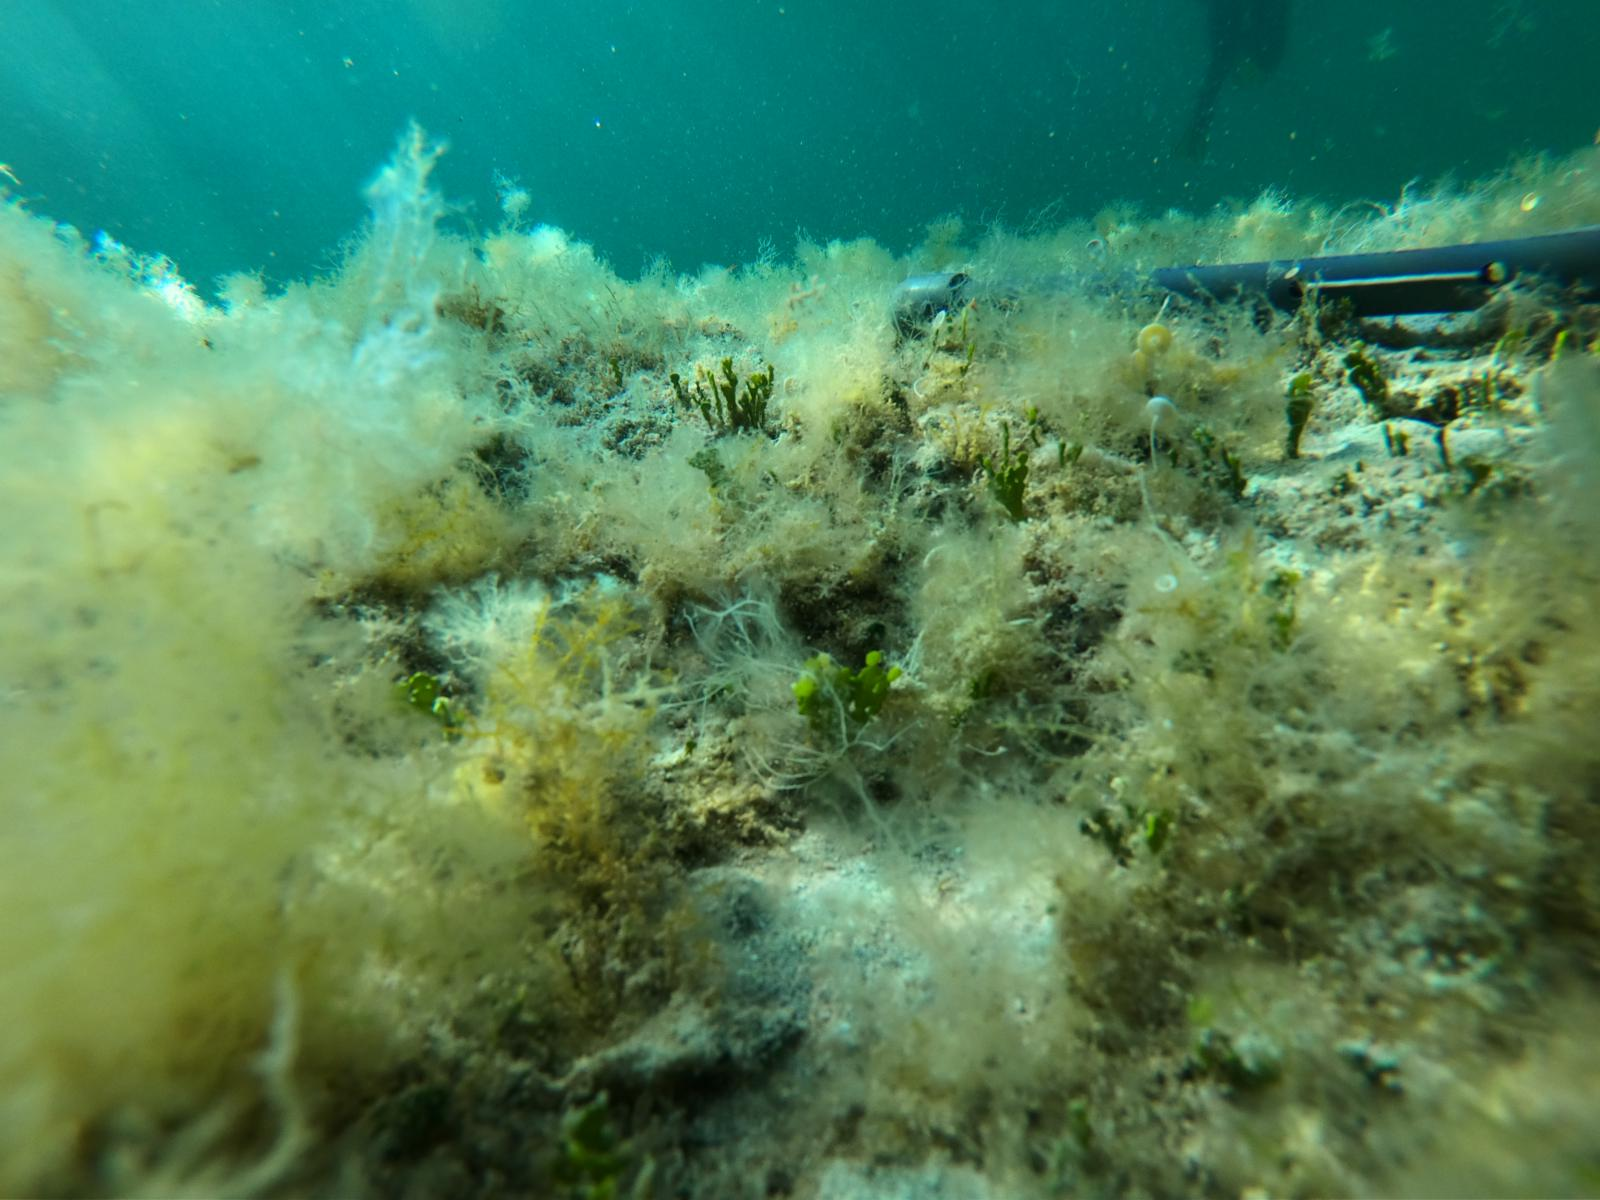halimeda: (797, 655, 897, 747), (677, 364, 777, 434), (1338, 345, 1398, 424), (981, 445, 1038, 521), (389, 666, 460, 718), (1285, 374, 1313, 451)
